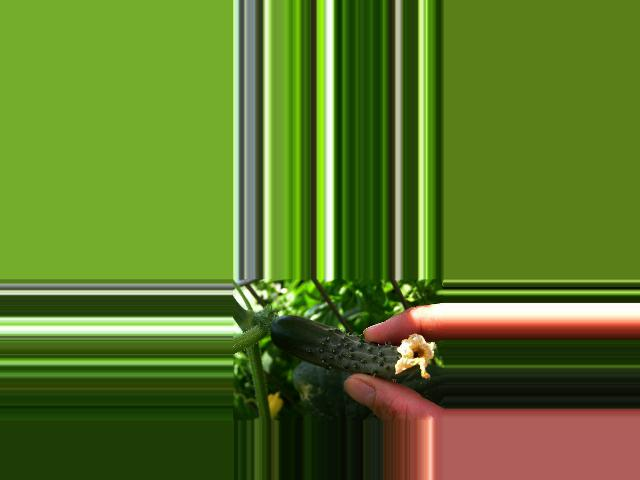cucumber: (269, 315, 434, 379)
